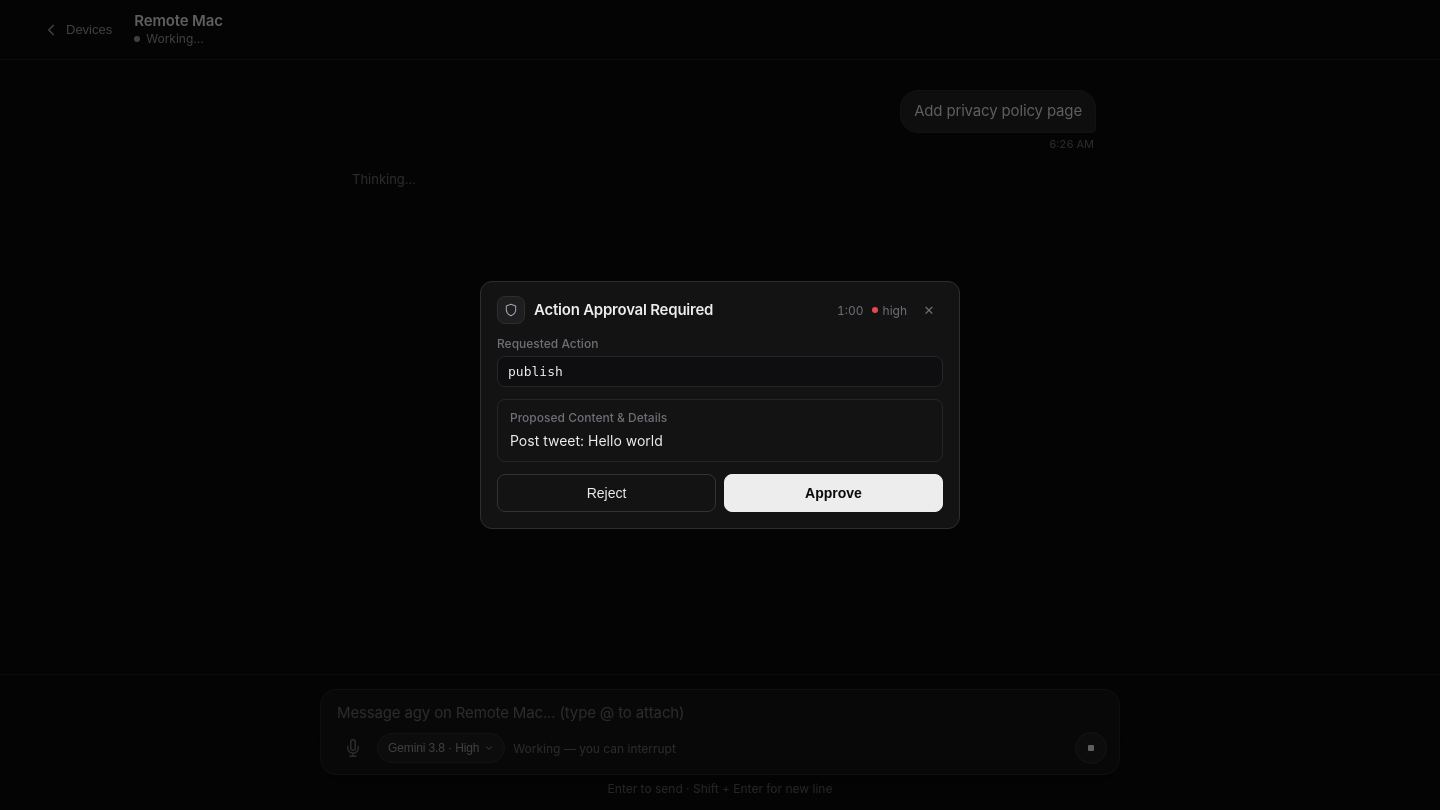
Web App Workflow › opens rejection feedback question when rejecting and sends reason
Click the button with test id "reject-approval-btn".
click(606, 493)  # box [497,474,716,512]
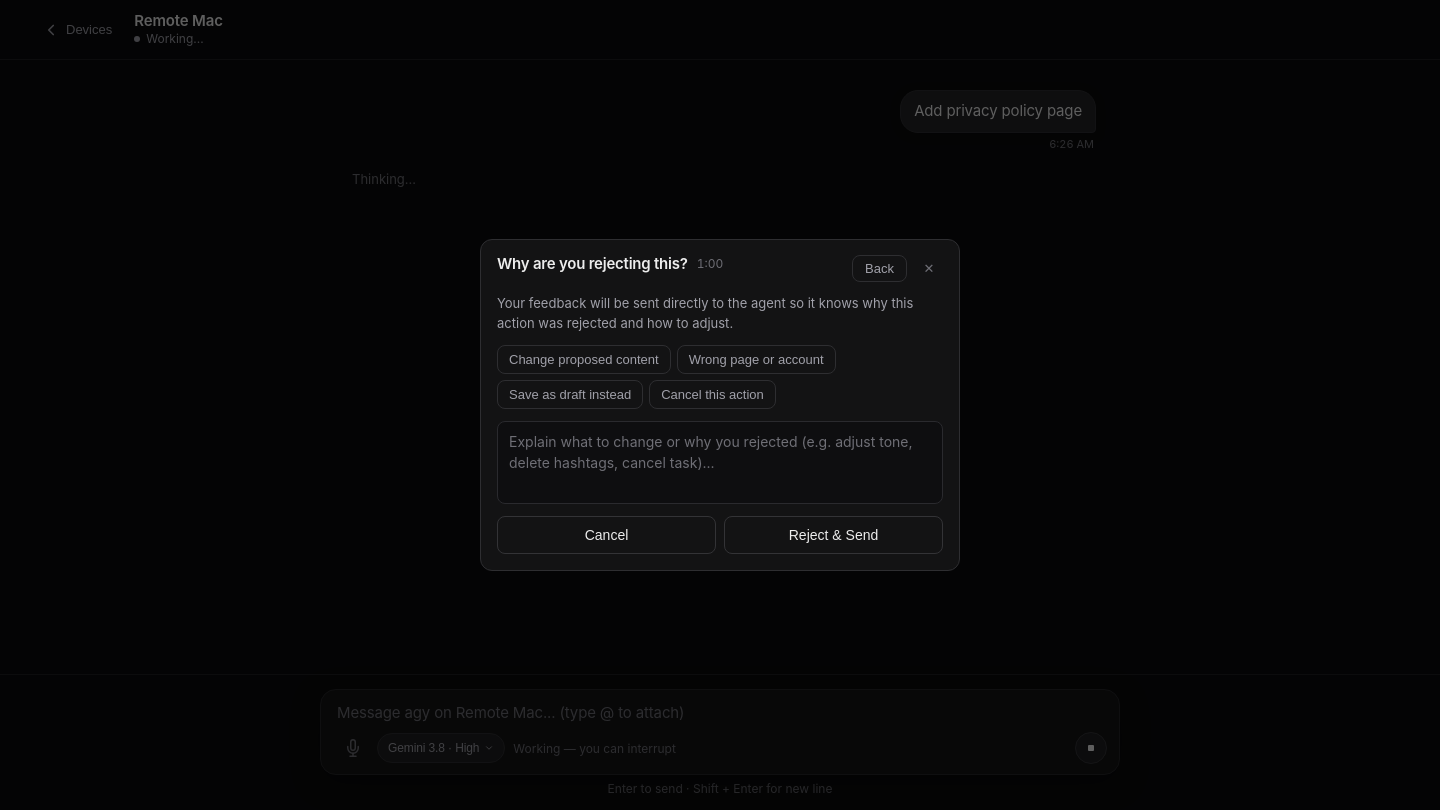
Check: the element with test id "rejection-form" is shown, box [497,254,943,554]
Check: the heading "Why are you rejecting this?" is shown, box [497,254,688,274]
Replace the text in the text box with test id "rejection-reason-input" with "Tone is too casual, make it formal" at (720,462), box [497,421,943,504]
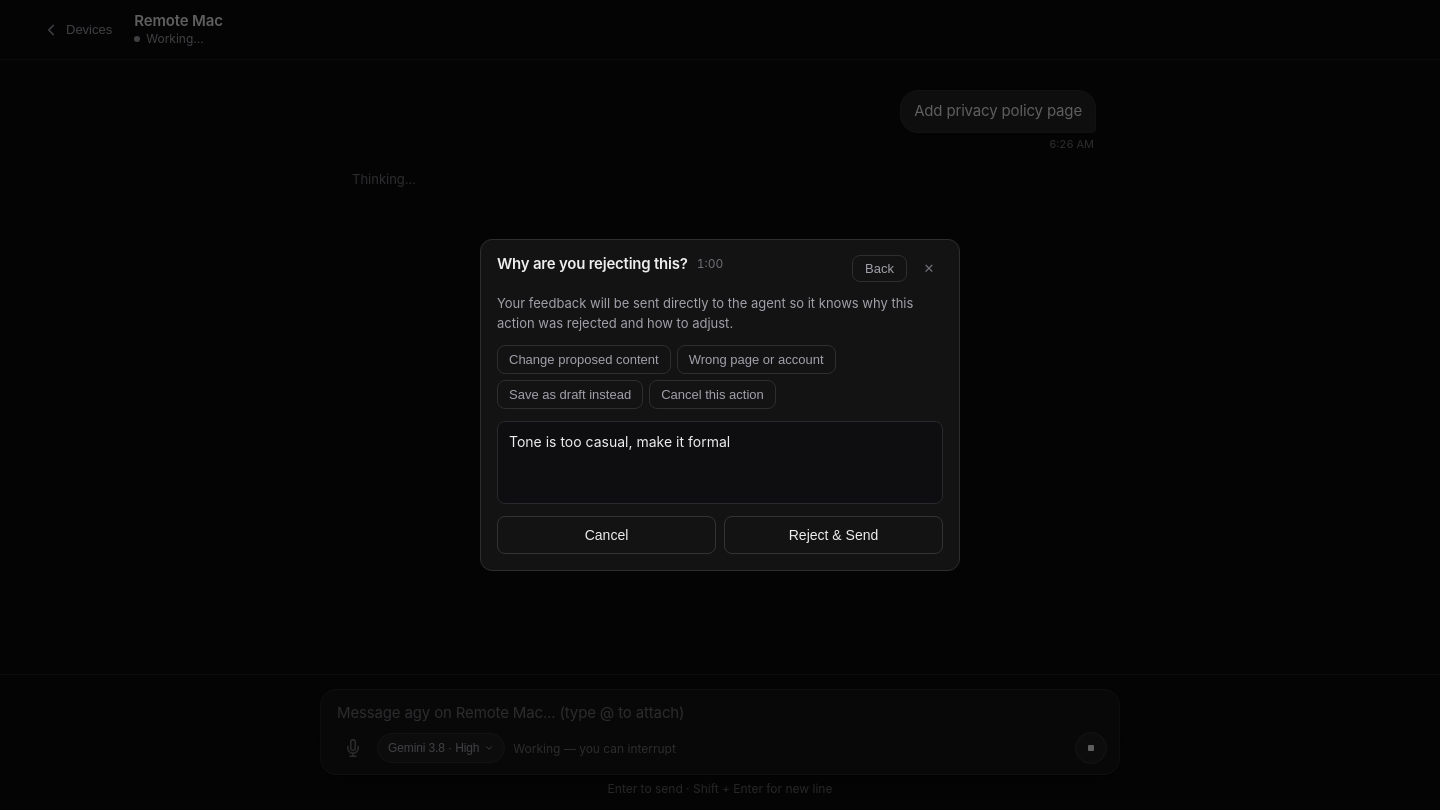
Click the button with test id "confirm-reject-btn".
click(834, 535)  # box [724,516,943,554]
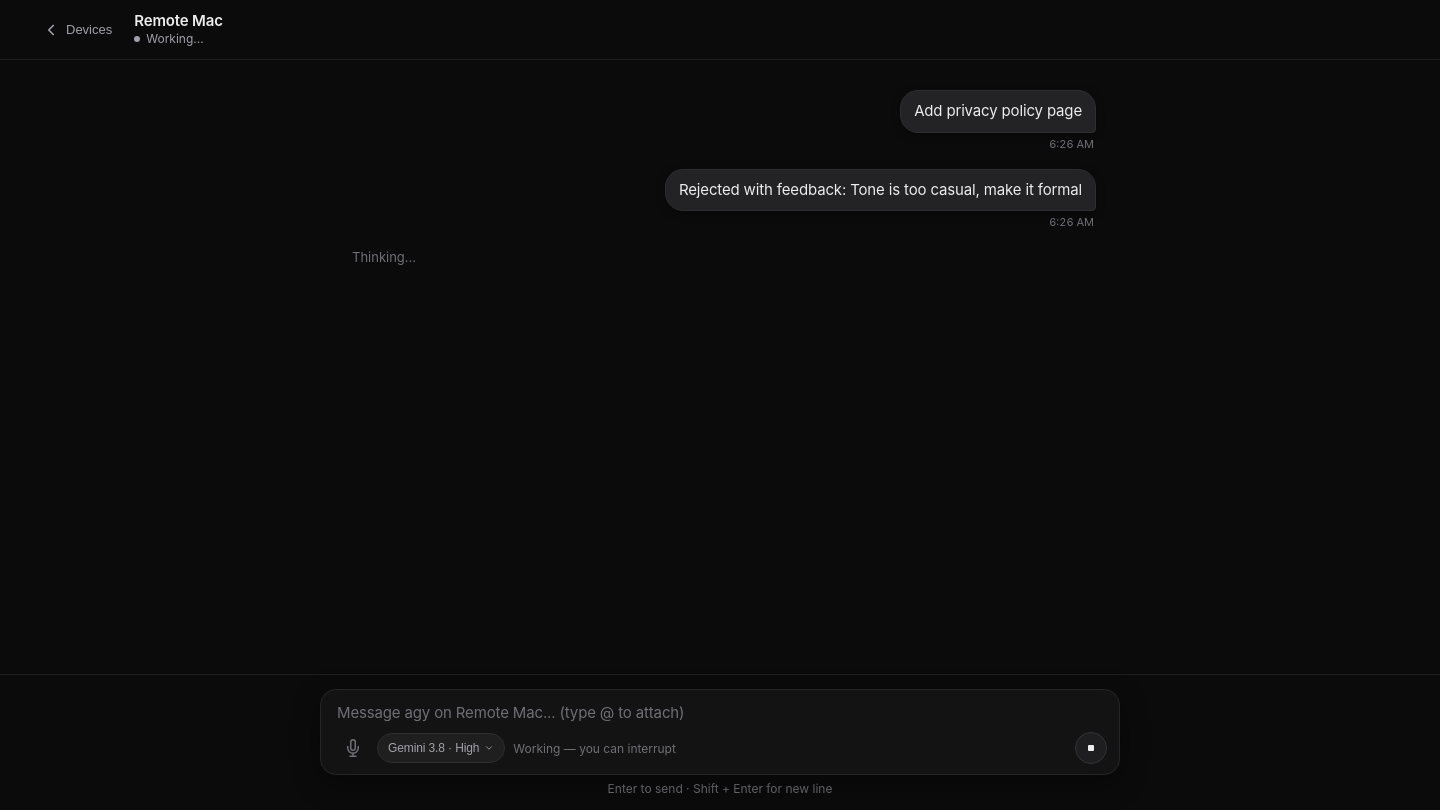
Check: the dialog with test id "approval-sheet" is gone
